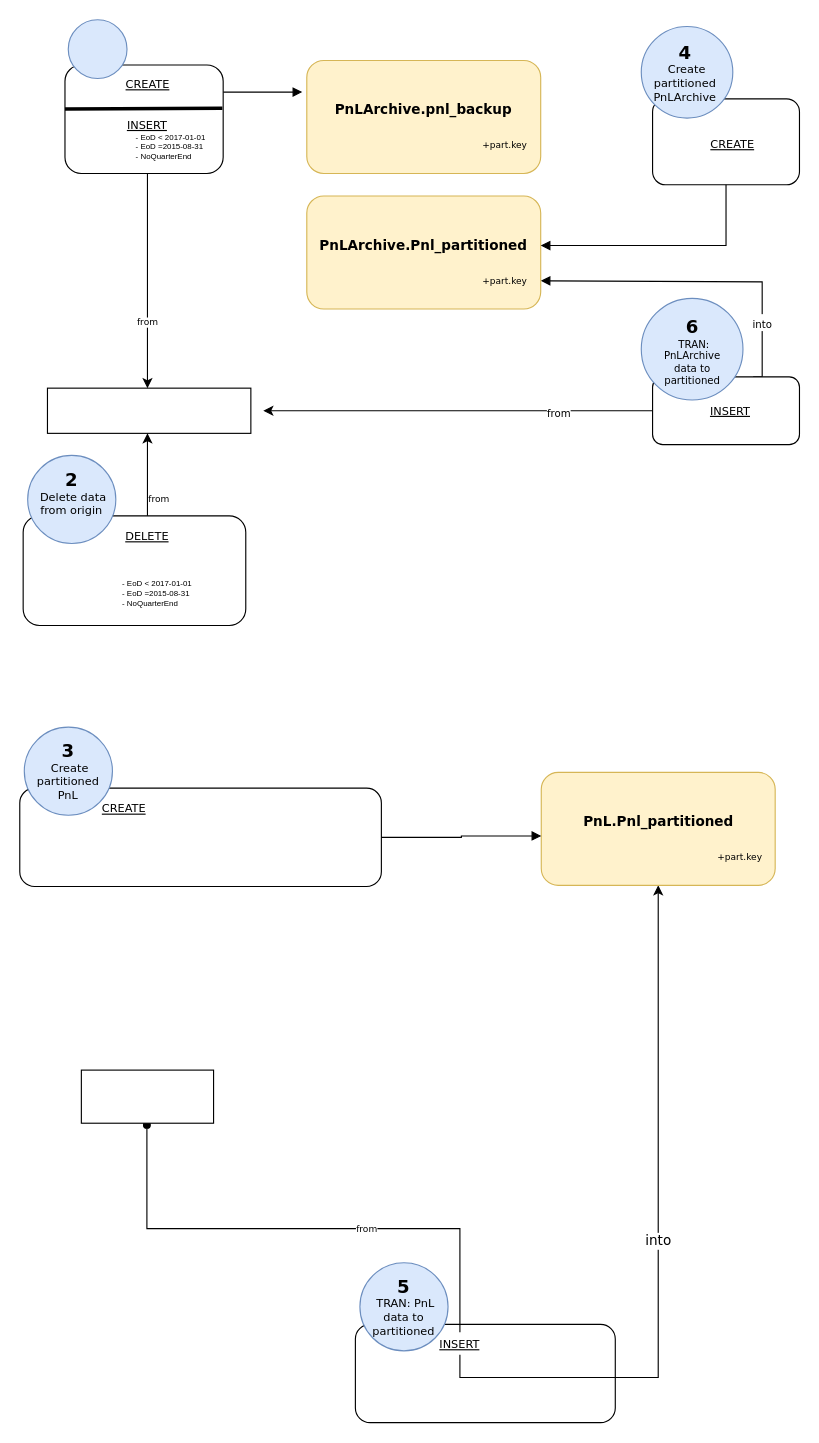
The diagram is 819 pixels wide and 1443 high, and some of its shapes have lost their labels. The shapes that lost their labels are listed below. From the top down, each one's centre as x and y in pixels, then its label:
At point (97, 49): "1 Backup data".
At point (148, 410): "PnLArchive.Pnl".
At point (147, 1096): "PnL.Pnl".
